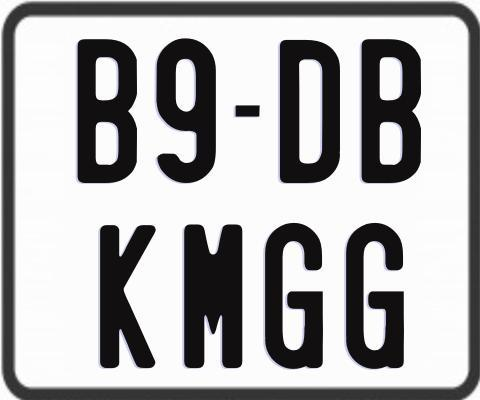9: (153, 35, 216, 181)
B: (362, 36, 422, 184), (76, 36, 135, 182)
D: (280, 39, 344, 186)
G: (344, 220, 408, 369), (262, 221, 320, 368)
K: (100, 224, 158, 370)
M: (183, 222, 242, 367)
